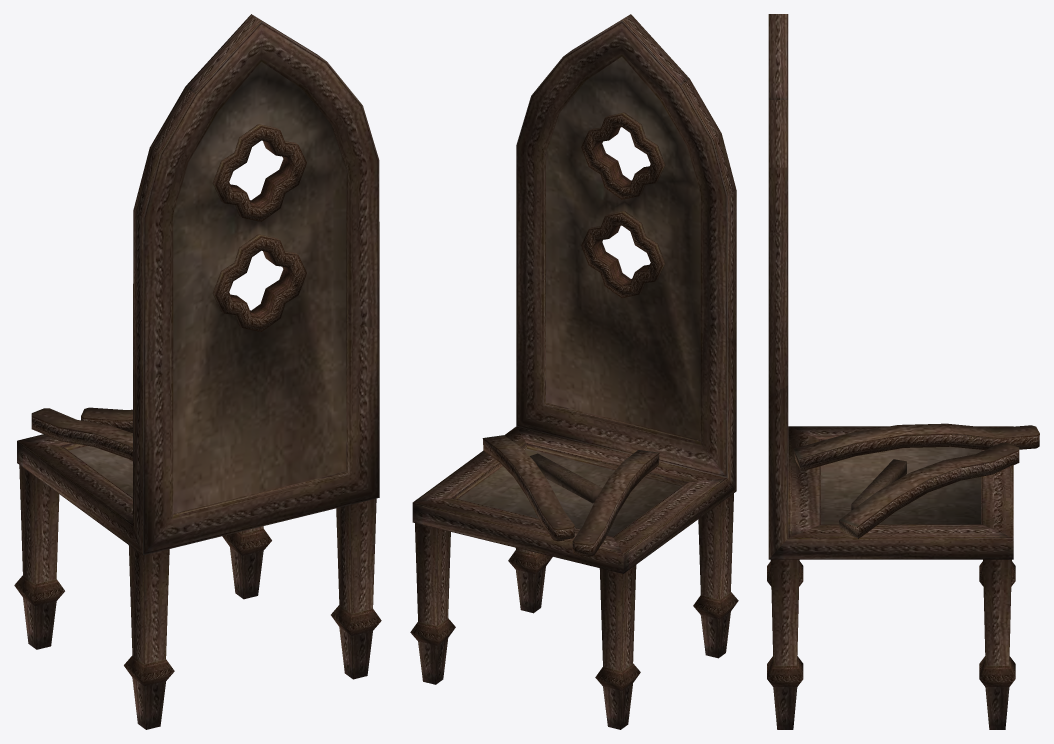
The model's file is KM_VOB_UNFINISHED_CHAIR_01.glb.
3 views of the same model, side by side, from view 1: azimuth 30°, elevation 25°; view 2: azimuth 150°, elevation 25°; view 3: azimuth 270°, elevation 25° (orthographic). The views are drawn at different scales.
Parts seen in each view (by area): view 1: Mesh; view 2: Mesh; view 3: Mesh.
Part boxes in pixels (<box>): Mesh: <box>14,14,381,729</box>; Mesh: <box>410,14,738,729</box>; Mesh: <box>767,14,1039,729</box>.
Size of the model in its own units: 0.6613 by 1.8 by 0.6713.
Materials: 1 (1 with a texture image).
